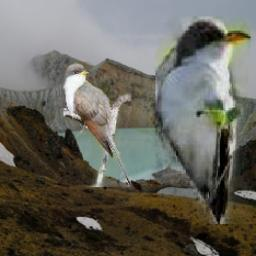Cuckoo: (156, 16, 252, 224), (63, 62, 131, 187)
